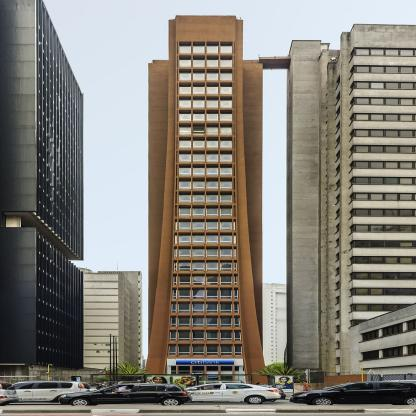Building Outline: (139, 15, 271, 396)
Dont: (58, 361, 306, 406)
Door: (193, 376, 219, 396)
Facade: (149, 63, 263, 396)
Floor: (149, 343, 263, 357), (149, 329, 263, 342), (149, 315, 263, 328), (149, 205, 263, 218), (149, 191, 263, 204), (149, 82, 263, 95), (149, 301, 263, 313), (149, 287, 263, 299), (149, 273, 263, 285), (149, 260, 263, 272), (149, 246, 263, 258), (149, 232, 263, 244), (149, 219, 263, 231), (149, 178, 263, 190), (149, 164, 263, 176), (149, 151, 263, 163), (149, 137, 263, 149), (149, 124, 263, 136), (149, 110, 263, 122), (149, 97, 263, 109), (149, 69, 263, 81), (169, 56, 243, 68)
Floor Slab: (149, 327, 263, 329), (149, 313, 263, 315), (149, 299, 263, 301), (149, 285, 263, 287), (149, 258, 263, 260), (149, 244, 263, 246), (149, 176, 263, 178), (149, 162, 263, 164), (149, 135, 263, 137), (149, 108, 263, 110), (149, 81, 263, 83), (149, 67, 263, 69), (149, 357, 263, 359), (169, 54, 243, 56), (149, 342, 263, 343), (149, 272, 263, 273), (149, 231, 263, 232), (149, 218, 263, 219), (149, 204, 263, 205), (149, 190, 263, 191), (149, 149, 263, 150), (149, 122, 263, 123), (149, 95, 263, 96)
Glass Wall: (171, 376, 190, 396), (220, 376, 239, 396)
Ground Floor: (149, 358, 263, 396)
Shop: (176, 359, 235, 365)
Top Floor: (169, 20, 243, 54)
Window: (221, 71, 233, 81), (179, 71, 191, 81), (194, 71, 206, 81), (207, 71, 219, 81), (221, 112, 233, 122), (179, 112, 191, 122), (194, 112, 206, 122), (207, 112, 219, 122), (221, 139, 233, 149), (179, 139, 191, 149), (193, 139, 205, 149), (207, 139, 219, 149), (221, 166, 233, 176), (179, 166, 191, 176), (193, 166, 205, 176), (207, 166, 219, 176), (221, 44, 233, 53), (179, 44, 191, 53), (194, 44, 206, 53), (207, 44, 219, 53), (221, 58, 233, 67), (179, 58, 191, 67), (194, 58, 206, 67), (207, 58, 219, 67), (221, 85, 233, 94), (179, 85, 191, 94), (194, 85, 206, 94), (207, 85, 219, 94), (221, 99, 233, 108), (179, 99, 191, 108), (194, 99, 206, 108), (207, 99, 219, 108), (221, 126, 233, 135), (179, 126, 191, 135), (193, 126, 205, 135), (207, 126, 219, 135), (221, 153, 233, 162), (179, 153, 191, 162), (193, 153, 205, 162), (207, 153, 219, 162), (221, 180, 233, 189), (179, 180, 191, 189), (193, 180, 205, 189), (207, 180, 219, 189), (221, 194, 233, 203), (179, 194, 191, 203), (193, 194, 205, 203), (207, 194, 219, 203), (178, 346, 190, 355), (220, 346, 232, 355), (206, 346, 218, 355), (192, 346, 204, 355), (179, 208, 191, 217), (221, 208, 233, 217), (207, 208, 219, 217), (193, 208, 205, 217), (179, 221, 191, 230), (221, 221, 233, 230), (207, 221, 219, 230), (193, 221, 205, 230), (179, 235, 191, 244), (221, 235, 233, 244), (207, 235, 219, 244), (193, 235, 205, 244), (179, 249, 191, 258), (221, 249, 233, 258), (207, 249, 219, 258), (193, 249, 205, 258), (179, 262, 191, 271), (221, 262, 233, 271), (207, 262, 219, 271), (193, 262, 205, 271), (179, 276, 191, 285), (221, 276, 233, 285), (207, 276, 219, 285), (193, 276, 205, 285), (179, 290, 191, 299), (221, 290, 233, 299), (207, 290, 219, 299), (193, 290, 205, 299), (179, 304, 191, 313), (221, 304, 233, 313), (207, 304, 219, 313), (193, 304, 205, 313), (178, 318, 190, 327), (220, 318, 232, 327), (206, 318, 218, 327), (192, 318, 204, 327), (178, 332, 190, 341), (220, 332, 232, 341), (206, 332, 218, 341), (192, 332, 204, 341), (169, 346, 177, 355), (234, 346, 242, 355), (170, 331, 177, 341), (234, 331, 241, 341), (178, 366, 190, 371), (192, 366, 204, 371), (221, 366, 233, 371), (207, 366, 218, 371), (171, 318, 177, 327), (234, 318, 240, 327), (171, 303, 176, 313), (234, 303, 239, 313), (173, 289, 177, 299), (234, 289, 238, 299), (173, 276, 177, 285), (234, 276, 238, 285), (178, 371, 190, 374), (192, 371, 204, 374), (221, 371, 233, 374), (207, 371, 218, 374), (174, 249, 177, 258), (174, 262, 177, 271), (234, 262, 237, 271), (233, 221, 236, 230), (234, 249, 237, 258), (233, 235, 236, 244), (175, 235, 178, 244), (175, 221, 178, 230), (171, 366, 176, 371), (235, 366, 239, 371), (171, 371, 176, 374), (235, 371, 239, 374)
Window Hole: (221, 42, 233, 54), (179, 42, 191, 54), (194, 42, 206, 54), (207, 42, 219, 54), (221, 56, 233, 68), (179, 56, 191, 68), (194, 56, 206, 68), (207, 56, 219, 68), (221, 69, 233, 81), (179, 69, 191, 81), (194, 69, 206, 81), (207, 69, 219, 81), (221, 83, 233, 95), (179, 83, 191, 95), (207, 83, 219, 95), (221, 96, 233, 108), (179, 96, 191, 108), (194, 96, 206, 108), (207, 96, 219, 108), (221, 110, 233, 122), (179, 110, 191, 122), (194, 110, 206, 122), (207, 110, 219, 122), (221, 123, 233, 135), (179, 123, 191, 135), (193, 123, 205, 135), (207, 123, 219, 135), (221, 137, 233, 149), (179, 137, 191, 149), (193, 137, 205, 149), (207, 137, 219, 149), (221, 150, 233, 162), (179, 150, 191, 162), (193, 150, 205, 162), (207, 150, 219, 162), (221, 164, 233, 176), (179, 164, 191, 176), (193, 164, 205, 176), (207, 164, 219, 176), (221, 178, 233, 190), (179, 178, 191, 190), (193, 178, 205, 190), (207, 178, 219, 190), (221, 192, 233, 204), (179, 192, 191, 204), (193, 192, 205, 204), (207, 192, 219, 204), (194, 83, 206, 94), (178, 344, 190, 355), (206, 344, 218, 355), (192, 344, 204, 355), (179, 206, 191, 217), (221, 206, 233, 217), (207, 206, 219, 217), (193, 206, 205, 217), (179, 219, 191, 230), (221, 219, 233, 230), (207, 219, 219, 230), (193, 219, 205, 230), (179, 233, 191, 244), (221, 233, 233, 244), (207, 233, 219, 244), (193, 233, 205, 244), (179, 247, 191, 258), (221, 247, 233, 258), (207, 247, 219, 258), (193, 247, 205, 258), (179, 260, 191, 271), (221, 260, 233, 271), (207, 260, 219, 271), (193, 260, 205, 271), (179, 274, 191, 285), (207, 274, 219, 285), (193, 274, 205, 285), (179, 288, 191, 299), (221, 288, 233, 299), (207, 288, 219, 299), (193, 288, 205, 299), (179, 302, 191, 313), (207, 302, 219, 313), (193, 302, 205, 313), (178, 316, 190, 327), (220, 316, 232, 327), (206, 316, 218, 327), (192, 316, 204, 327), (178, 330, 190, 341), (220, 330, 232, 341), (206, 330, 218, 341), (192, 330, 204, 341), (220, 344, 232, 355), (221, 302, 233, 313), (221, 274, 233, 285), (169, 344, 177, 355), (234, 344, 242, 355), (170, 330, 177, 341), (234, 330, 241, 341), (171, 315, 177, 327), (234, 315, 240, 327), (171, 302, 176, 313), (234, 302, 239, 313), (173, 288, 177, 299), (234, 288, 238, 299), (173, 274, 177, 285), (234, 274, 238, 285), (174, 260, 177, 271), (174, 247, 177, 258), (234, 260, 237, 271), (233, 219, 236, 230), (234, 247, 237, 258), (233, 233, 236, 244), (175, 233, 178, 244), (175, 219, 178, 230)
